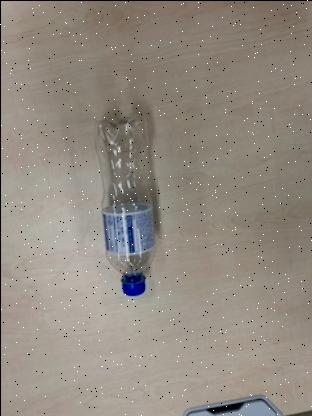Plastic Bottle: (94, 99, 160, 301)
